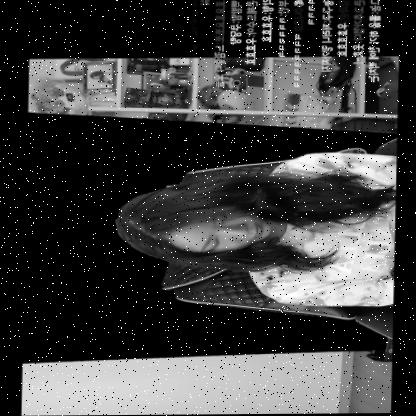streamer: (112, 153, 396, 309)
